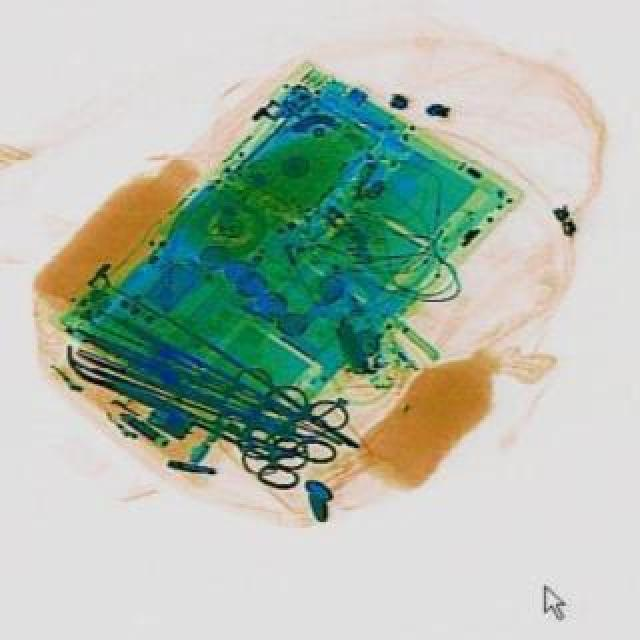pliers: (184, 388, 338, 504)
